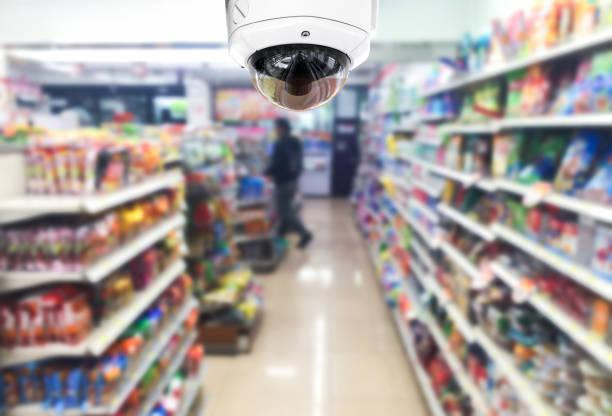camera: (209, 0, 399, 128)
